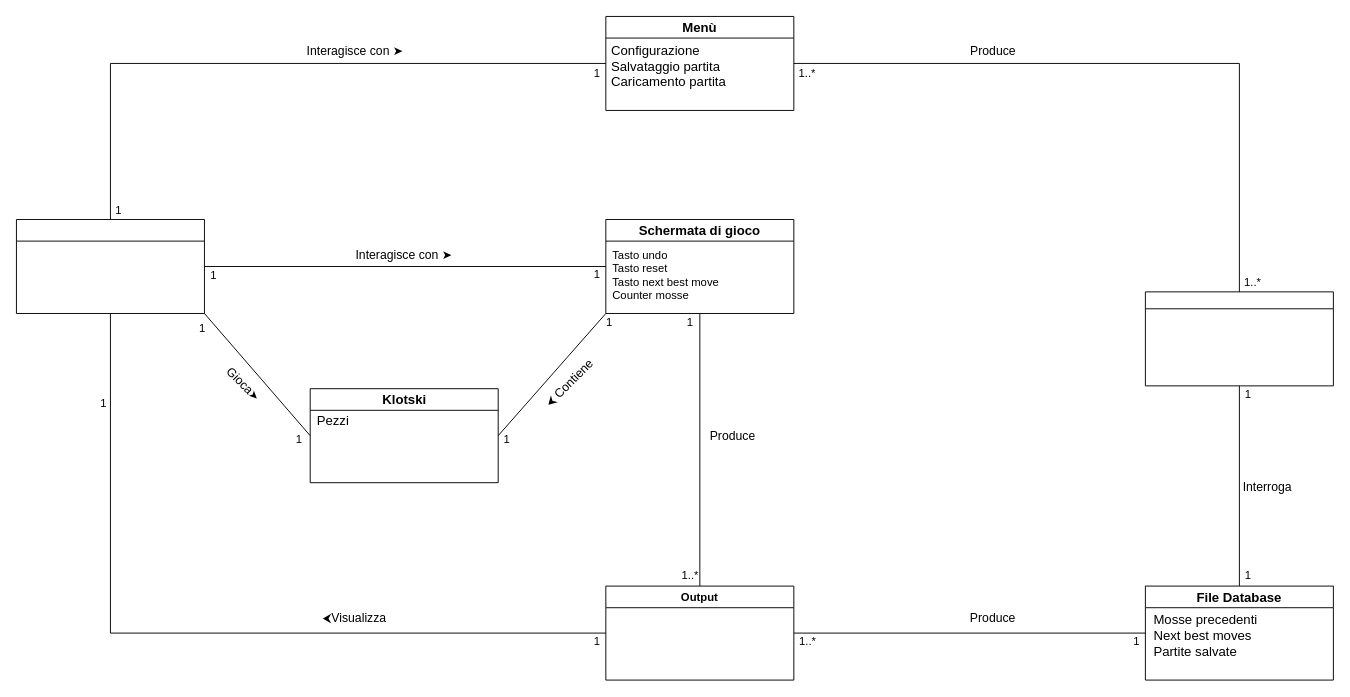
The diagram is 1350 pixels wide and 697 high, and some of its shapes have lost their labels. Each missing label, with the centre of its shape:
"Query" belongs at (x=1238, y=338).
"Utente" belongs at (x=110, y=266).
